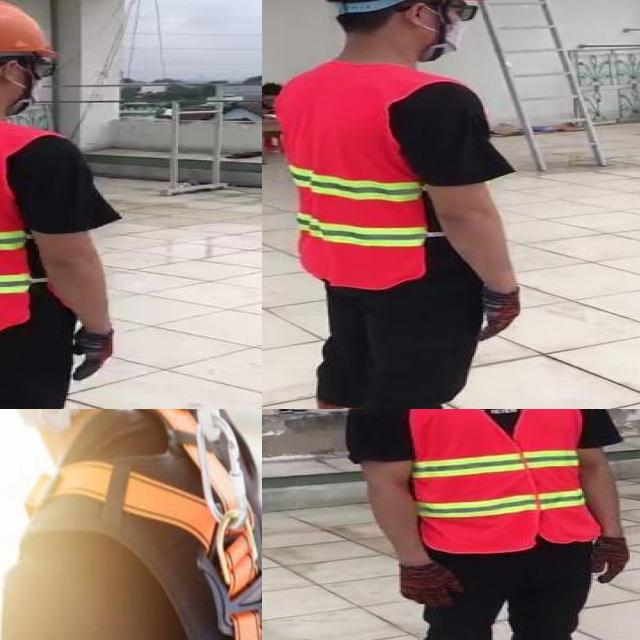Harness: (50, 409, 262, 640)
hand_glove: (395, 560, 461, 605), (70, 330, 116, 381), (478, 288, 520, 341), (592, 538, 632, 587)
head_helmet: (0, 0, 66, 60)
person: (262, 0, 565, 409), (342, 409, 640, 640), (0, 0, 139, 409)
vest: (277, 62, 447, 288), (407, 409, 596, 553), (0, 116, 44, 336)
